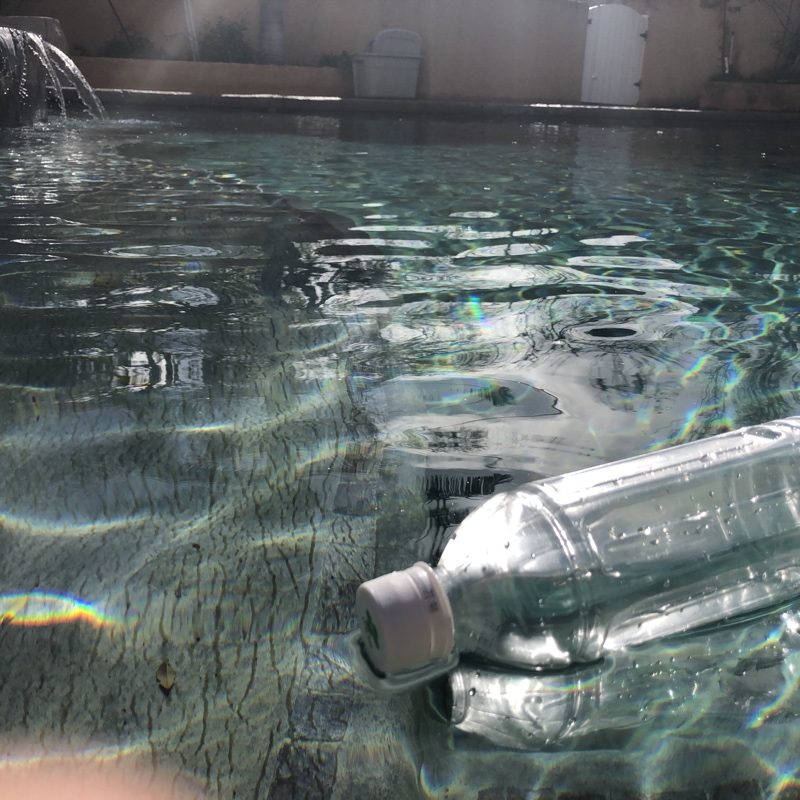Plastic Bottle: (341, 408, 800, 697)
